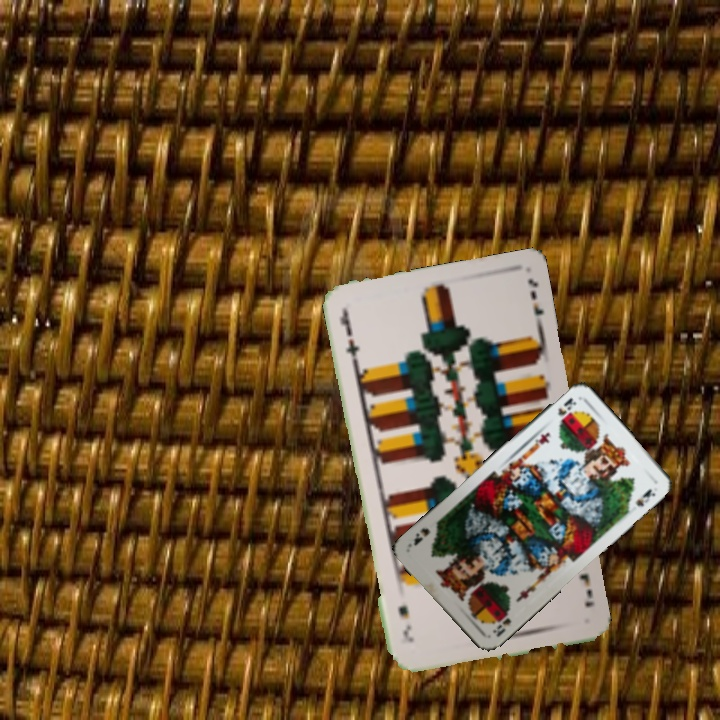E7: (336, 306, 362, 365), (575, 570, 597, 610)
SK: (489, 604, 514, 640), (554, 393, 579, 418)
